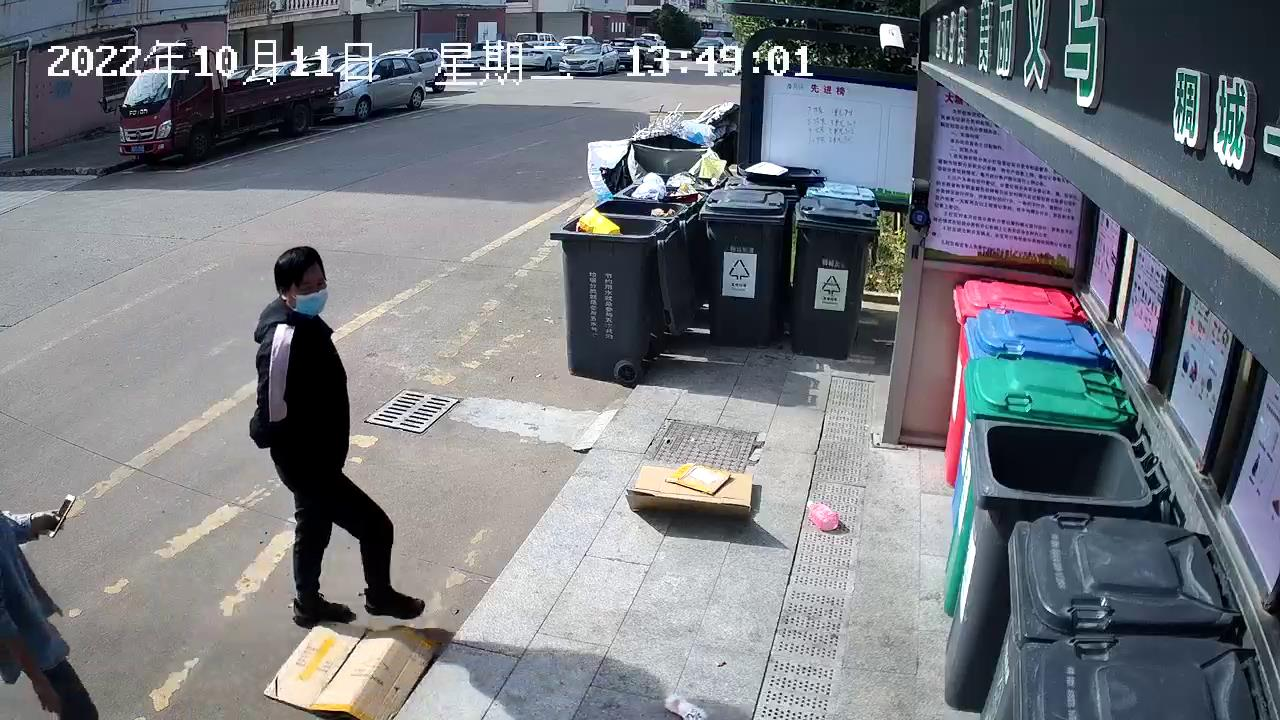person: (242, 241, 438, 631)
suliaozhipin: (802, 493, 846, 535)
zhizhipin: (257, 617, 457, 720), (620, 458, 763, 525)
